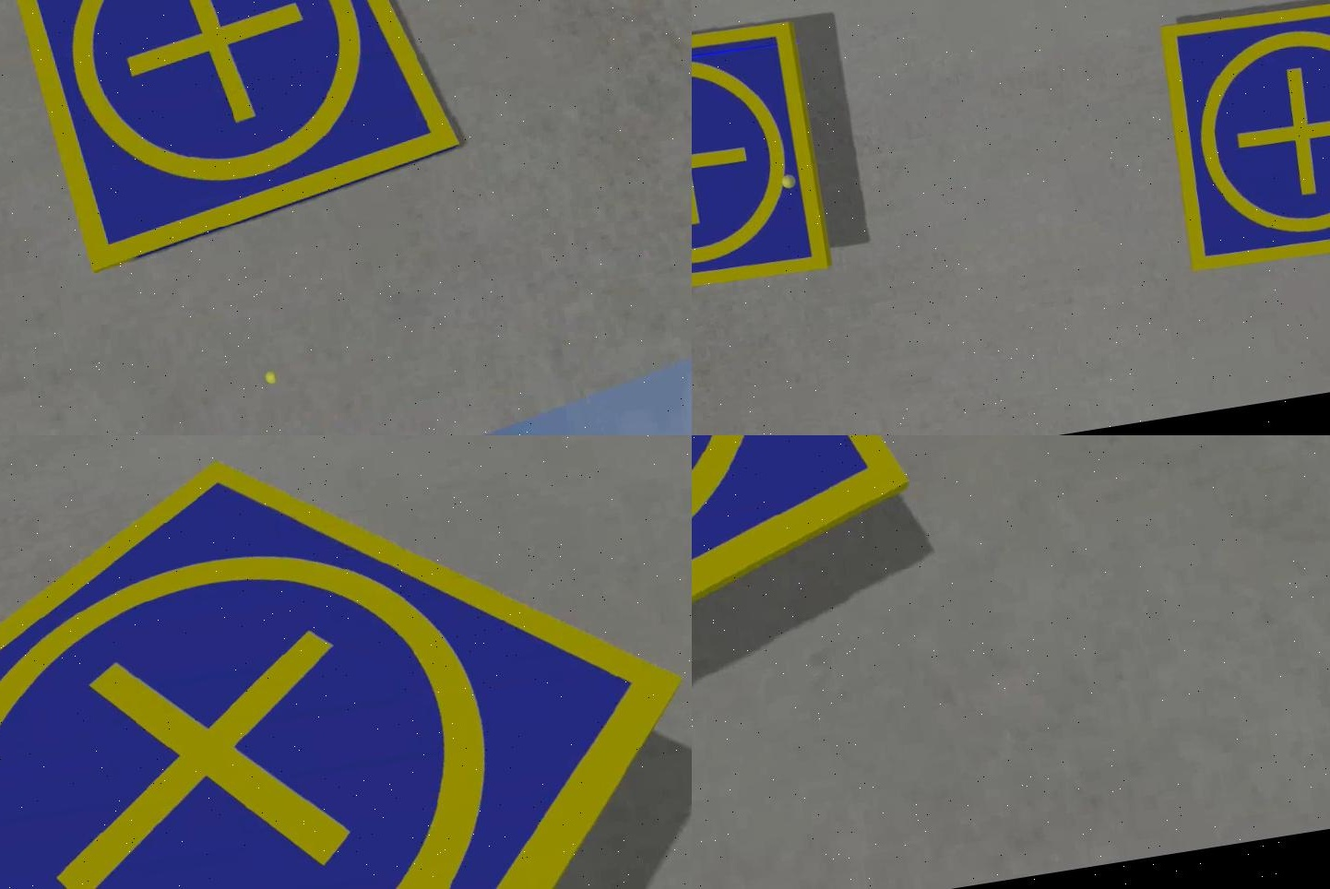small_base: (0, 435, 690, 889), (0, 1, 472, 284), (690, 435, 944, 786), (1152, 1, 1328, 279), (690, 17, 831, 308)
